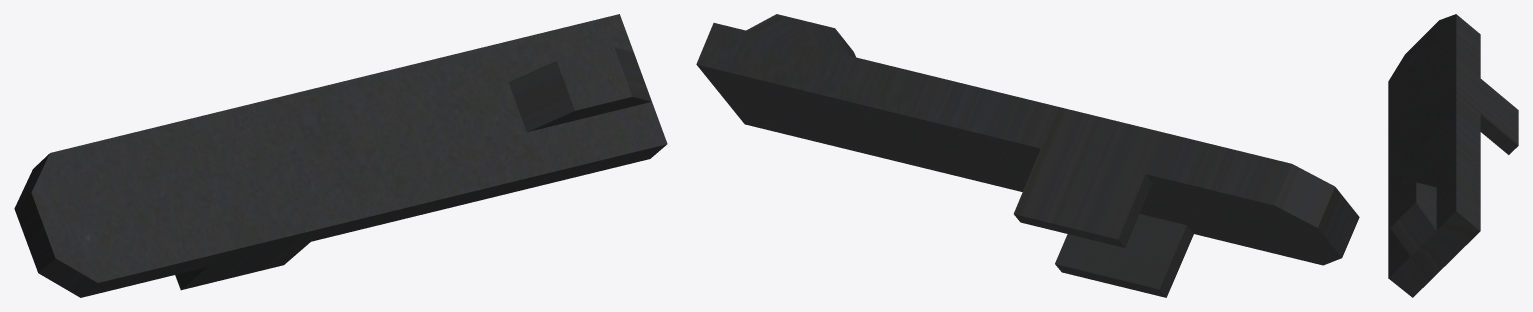
The model's file is Extractor.dae.
The picture shows the model from 3 angles, left to right: view 1: azimuth 30°, elevation 25°; view 2: azimuth 150°, elevation 25°; view 3: azimuth 270°, elevation 25°; orthographic projection. The views are drawn at different scales.
Parts seen in each view (by area): view 1: Extractor; view 2: Extractor; view 3: Extractor.
Boxes of the visible parts, box(x1,y1,x2,y2) form: Extractor: box(14, 14, 667, 297); Extractor: box(696, 14, 1359, 297); Extractor: box(1388, 14, 1518, 297).
Size of the model in its own units: 0.0302 by 0.00799 by 0.00796.
Materials: 1 (1 with a texture image).
